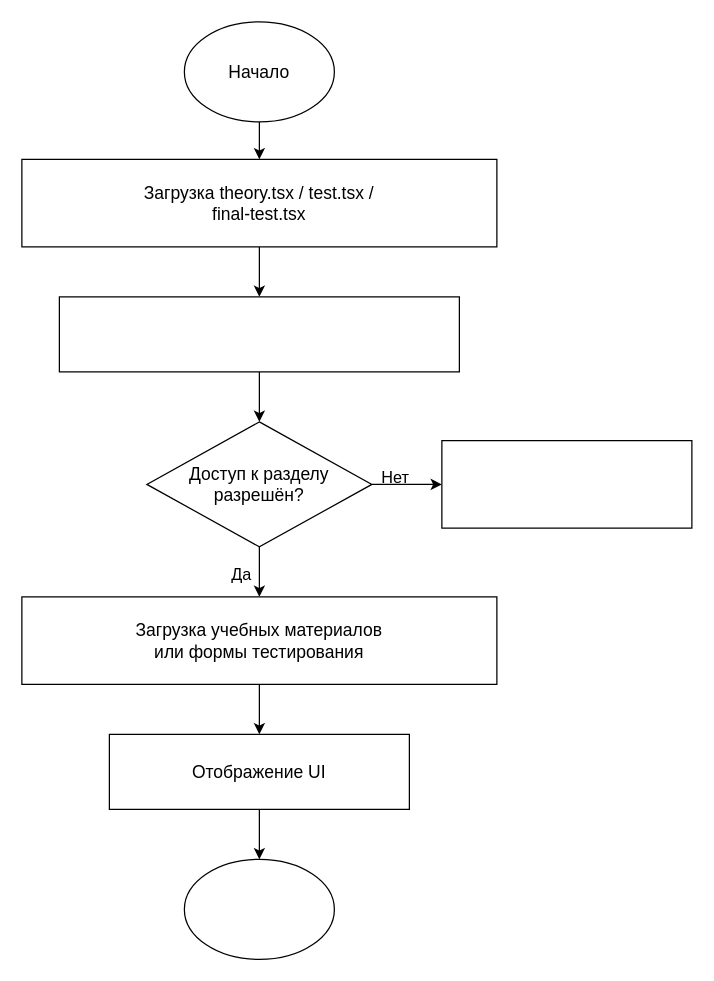
Image size: 714x981. Some labels were removed from this diagram. Here are the shapes that lost their labels. From the top down, the centre of each, then its label:
the point at 258,334: getMyContentAccessFn
the point at 566,483: Сообщение: доступ закрыт
the point at 258,908: Конец
